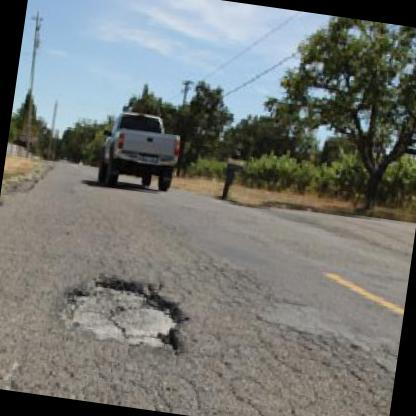pothole: (52, 266, 193, 357)
